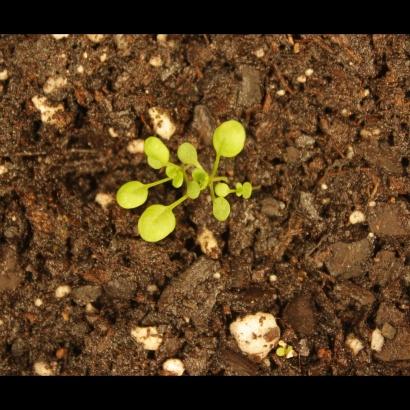leaf: (134, 204, 184, 246), (207, 118, 253, 160), (138, 133, 172, 174), (117, 181, 158, 212), (176, 139, 200, 168), (231, 178, 254, 206), (209, 197, 232, 224), (214, 180, 237, 203), (182, 177, 205, 200), (164, 165, 187, 188), (194, 167, 217, 190)
